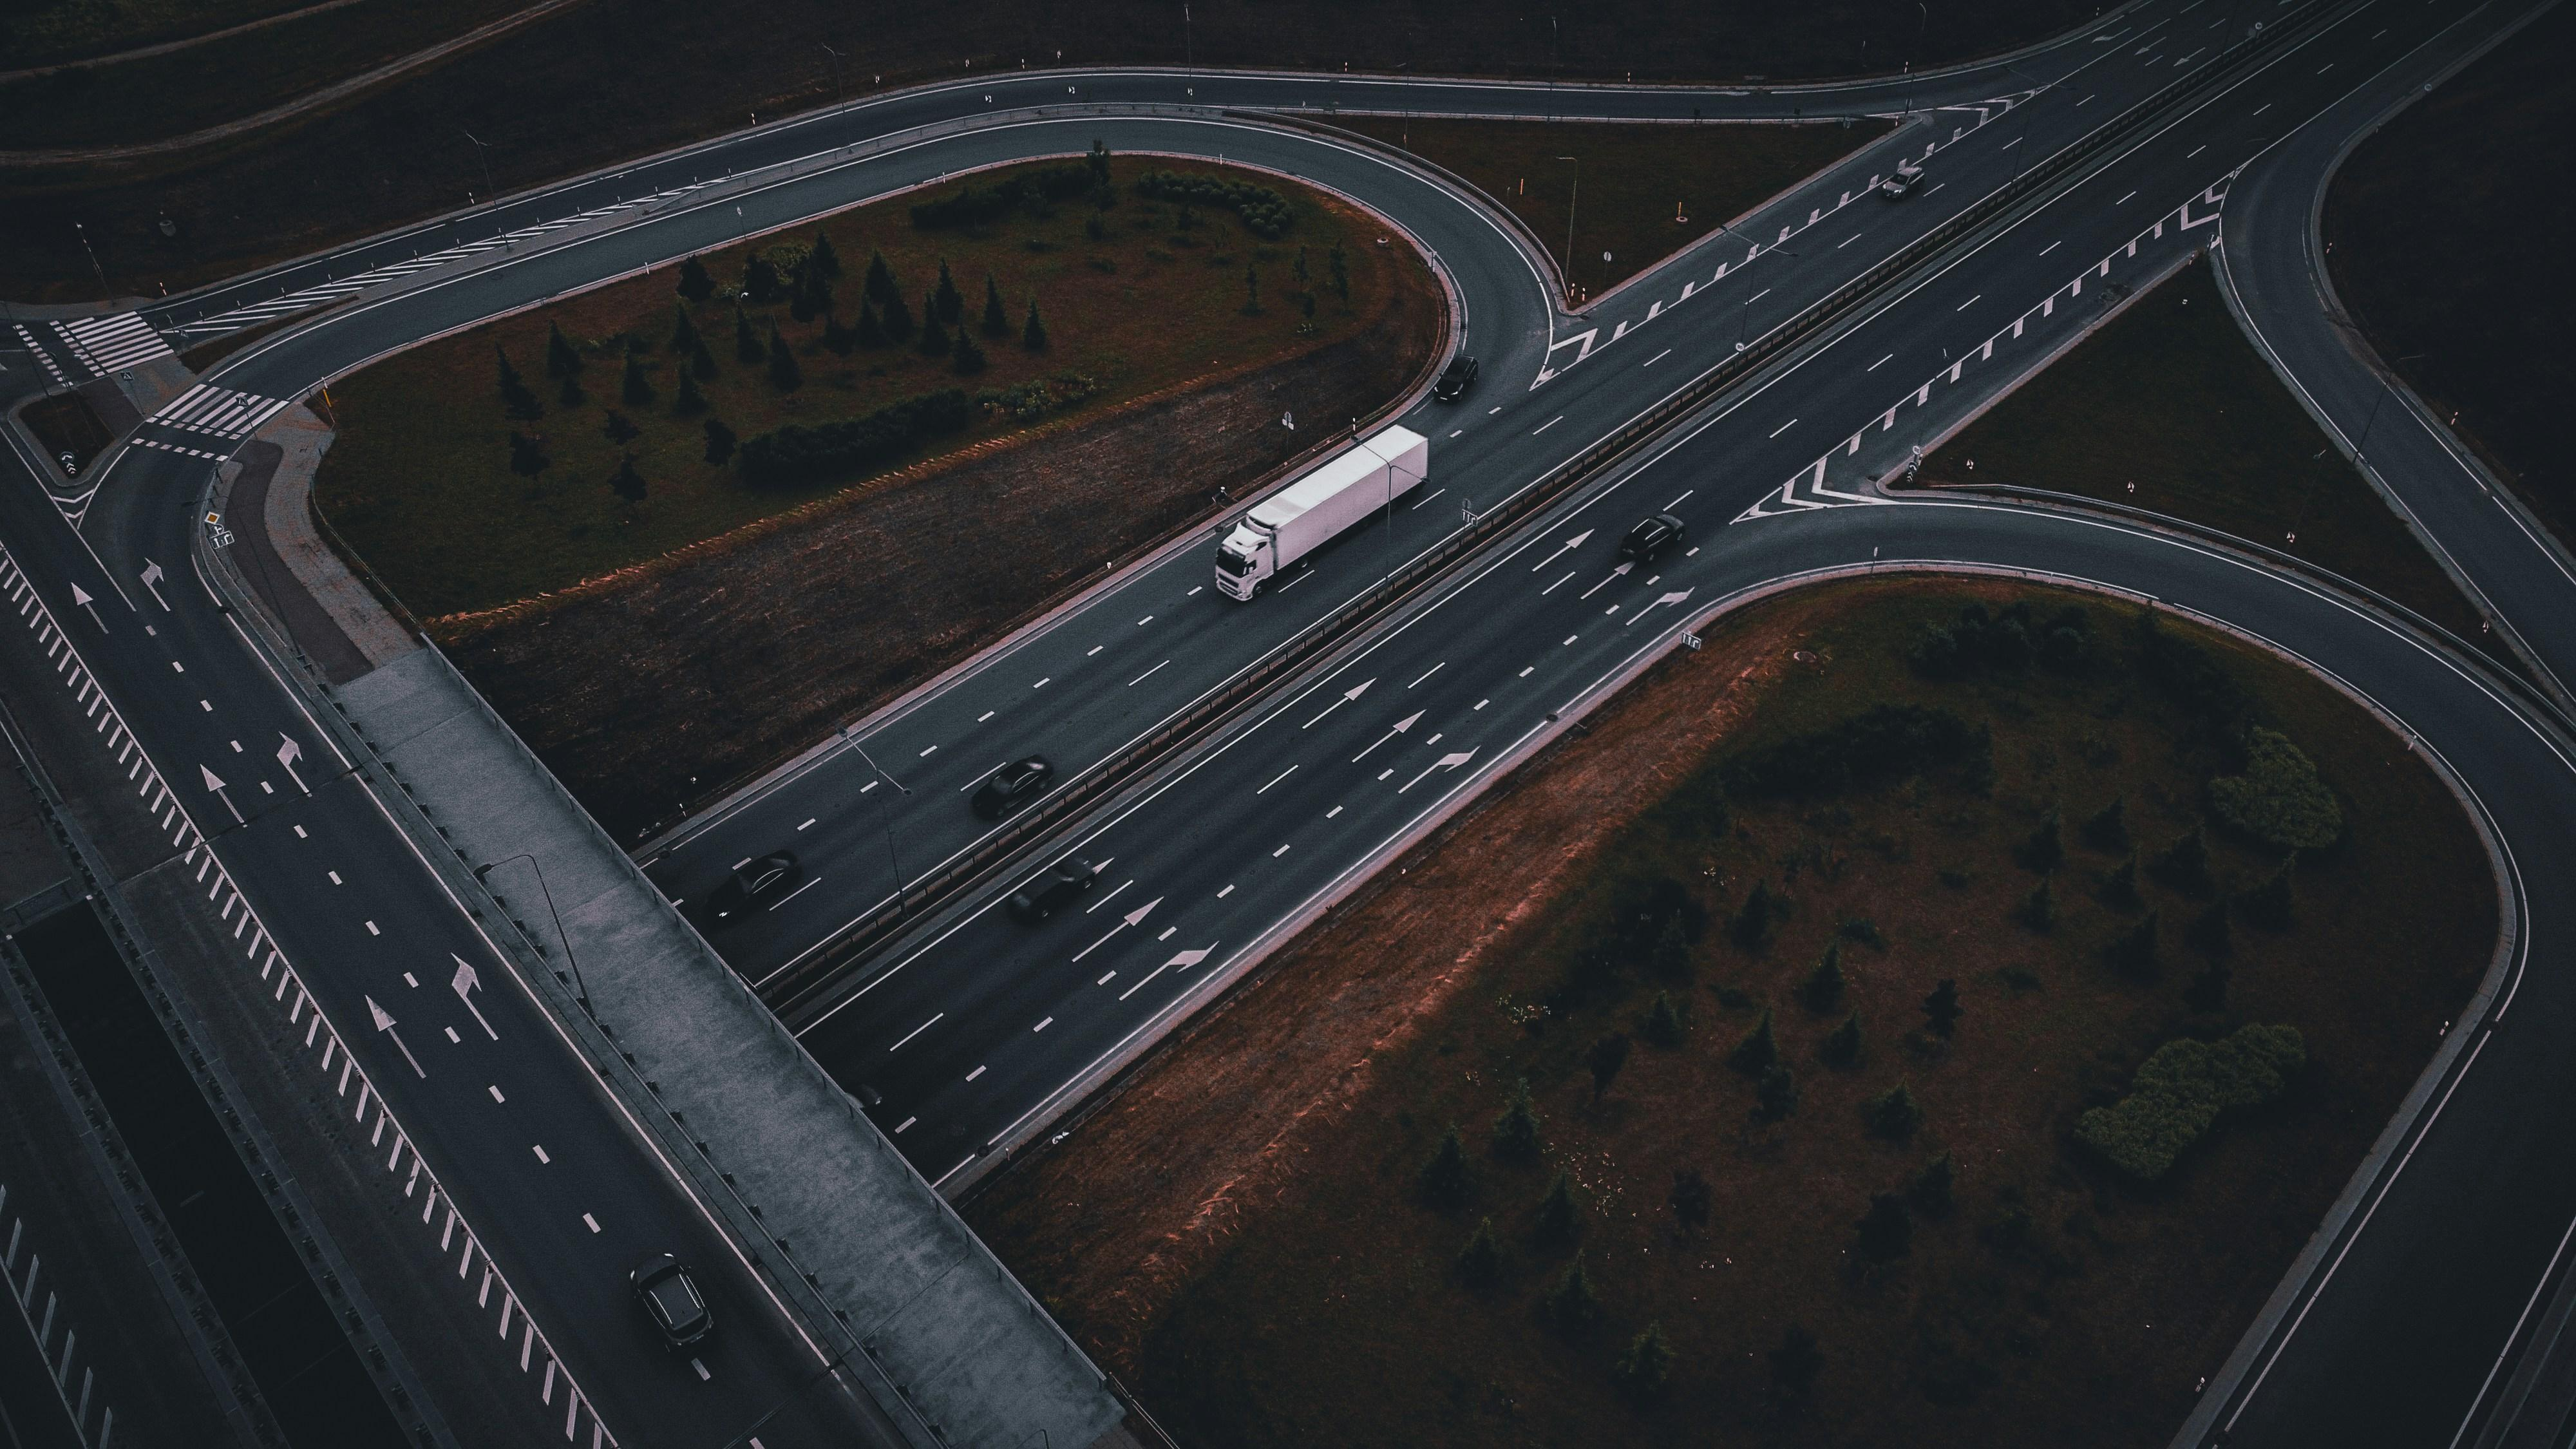Trucks: (1215, 426, 1426, 600)
